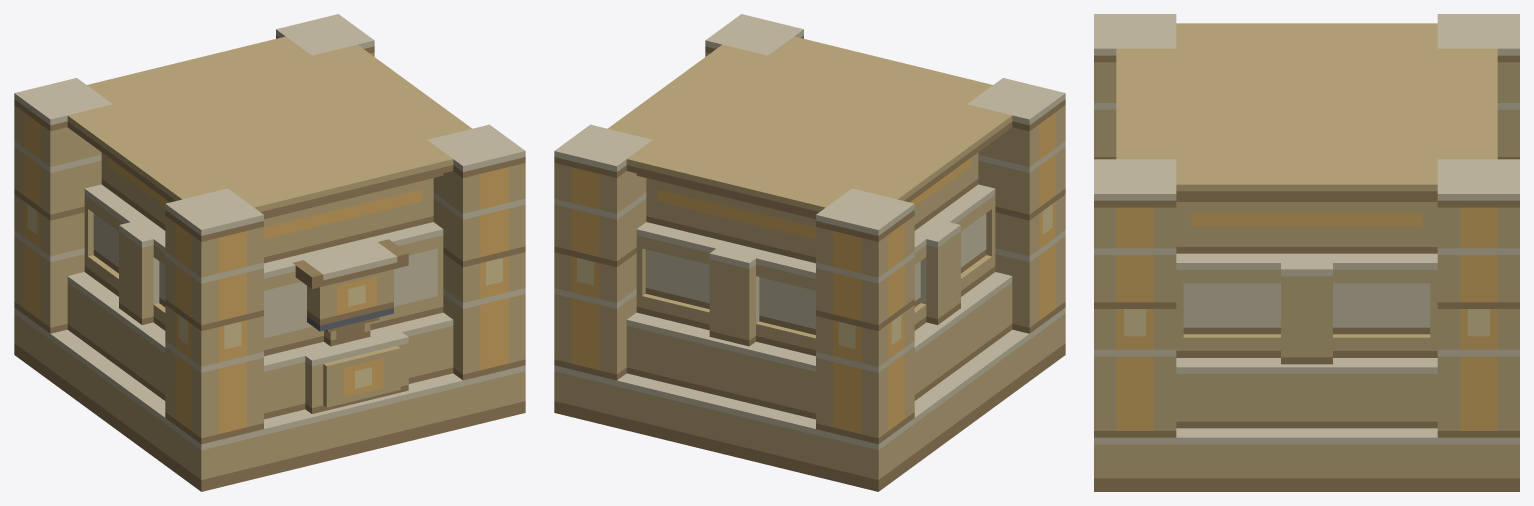
File: plinth.glb
The picture shows the model from 3 angles, left to right: view 1: azimuth 30°, elevation 25°; view 2: azimuth 150°, elevation 25°; view 3: azimuth 270°, elevation 25°; orthographic projection. The views are drawn at different scales.
Bounding box in the file's own units: 57 × 44 × 57.
